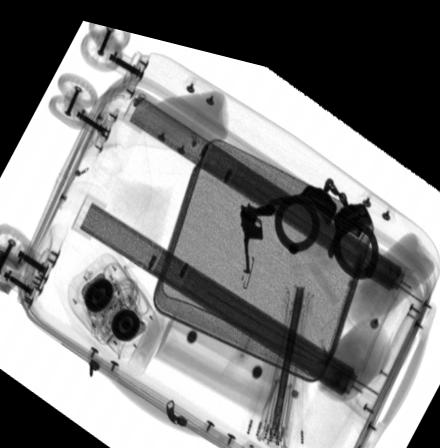Bullet: (312, 182, 365, 220)
Gun: (238, 189, 275, 260)
HandCuffs: (267, 159, 380, 260)
